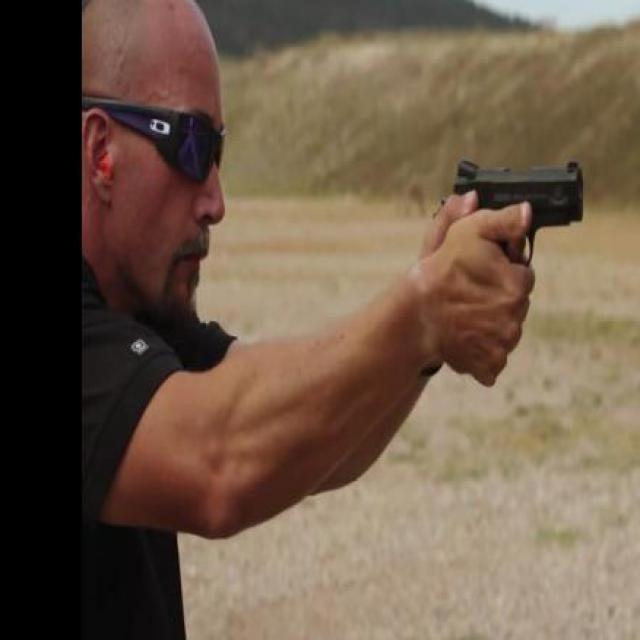weapon: (436, 161, 586, 268)
